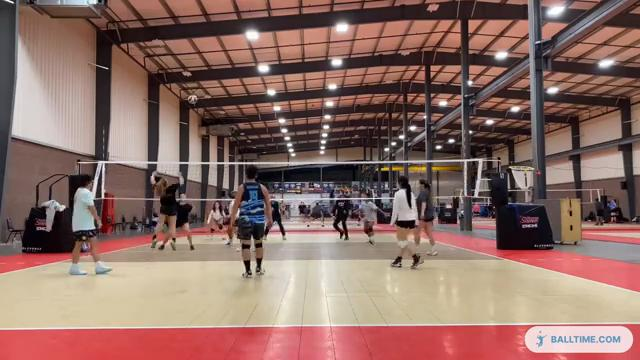Block: (147, 169, 184, 251)
Player: (230, 165, 271, 277), (69, 174, 111, 274), (391, 176, 421, 268), (415, 179, 437, 255), (360, 193, 386, 244), (176, 194, 194, 250), (332, 193, 350, 240), (271, 200, 285, 240), (224, 192, 234, 245), (207, 201, 223, 232)
ball: (189, 95, 198, 104)
